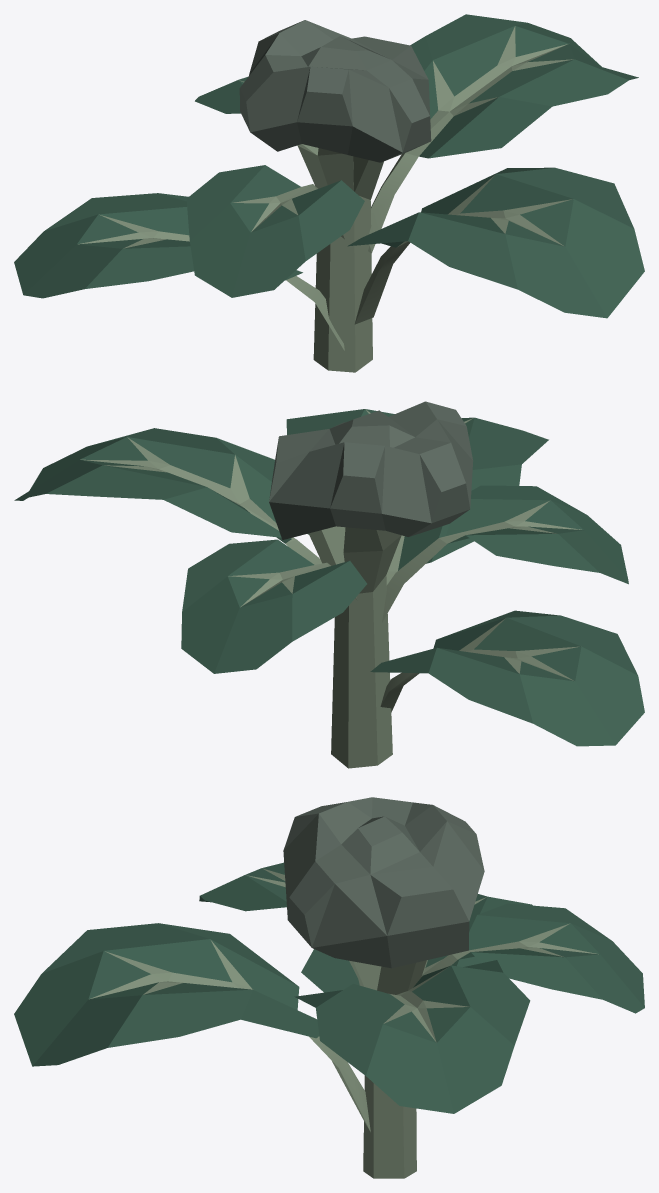
File: broccoli_plant.glb
3 renders of one model, top to bottom at view 1: azimuth 30°, elevation 25°; view 2: azimuth 150°, elevation 25°; view 3: azimuth 270°, elevation 25°, orthographic. The views are drawn at different scales.
Parts seen in each view (by area): view 1: SM_Prop_Broccoli_01_L; view 2: SM_Prop_Broccoli_01_L; view 3: SM_Prop_Broccoli_01_L.
Part boxes in pixels (x1,y1,x2,y2): SM_Prop_Broccoli_01_L: (14,14,644,372); SM_Prop_Broccoli_01_L: (14,401,644,768); SM_Prop_Broccoli_01_L: (14,797,644,1178).
Bounding box in the file's own units: 0.8937 × 0.4745 × 0.7873.
Materials: 1 (1 with a texture image).
